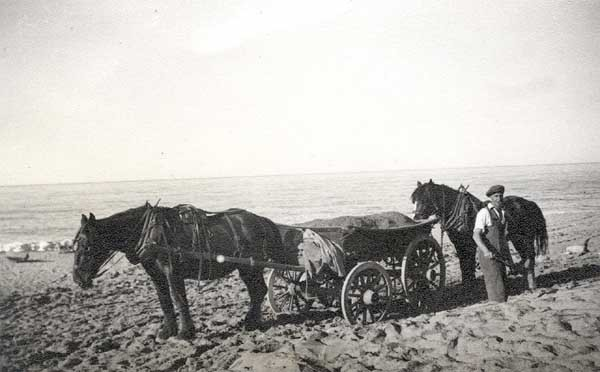horse: (72, 202, 286, 341), (410, 179, 551, 291)
